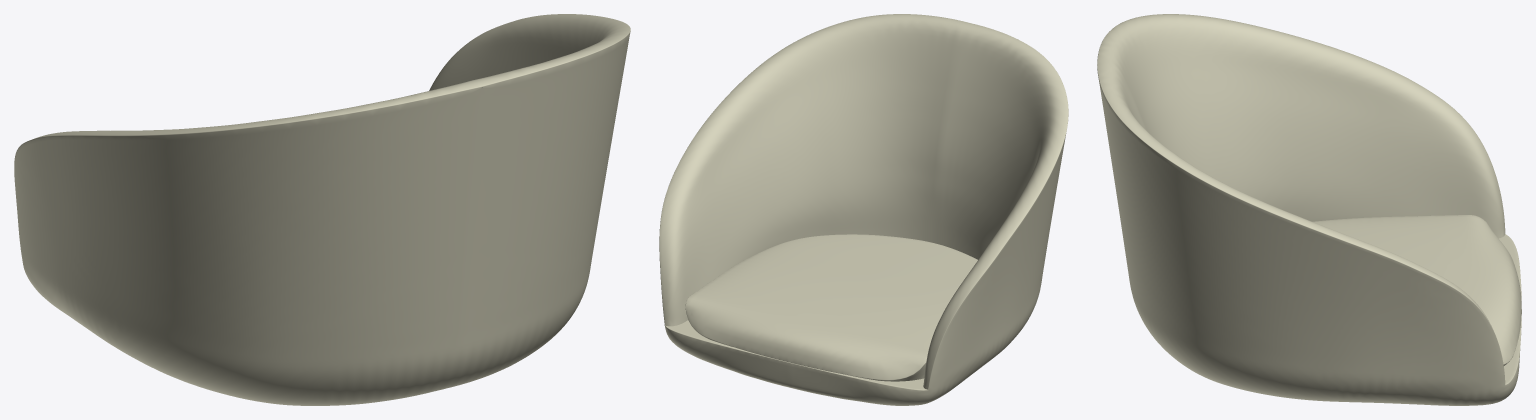
3 renders of one model, left to right at view 1: azimuth 30°, elevation 25°; view 2: azimuth 150°, elevation 25°; view 3: azimuth 270°, elevation 25°, orthographic. The views are drawn at different scales.
Parts seen in each view (by area): view 1: SCOCCA; view 2: SCOCCA, SEDILE; view 3: SCOCCA, SEDILE.
Part boxes in pixels (x1,y1,x2,y2): SCOCCA: (14,14,630,405); SCOCCA: (659,14,1068,405); SEDILE: (685,234,977,381); SCOCCA: (1097,14,1521,405); SEDILE: (1312,215,1521,365).
Bounding box in the file's own units: 0.6077 × 0.4168 × 0.5748.
